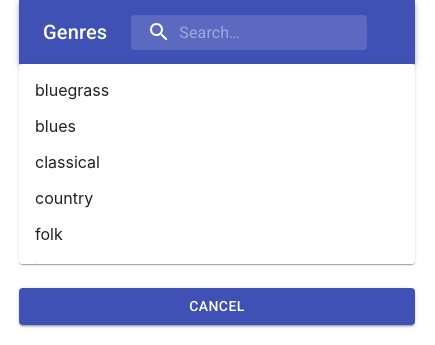
IdPicker tests › updates filter
Expected: the button "classical" is shown, [35,152,100,172]
In the field: (249, 32) [131,14,367,50], type "jazz"
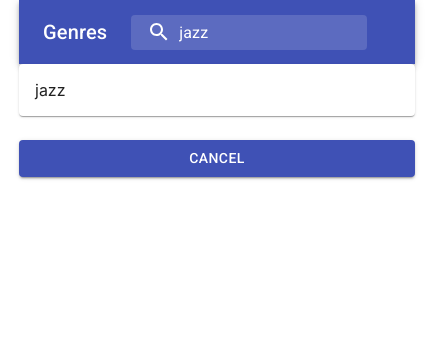
Expected: the button "jazz" is shown, [35,80,66,100]
Expected: the button "classical" is gone
